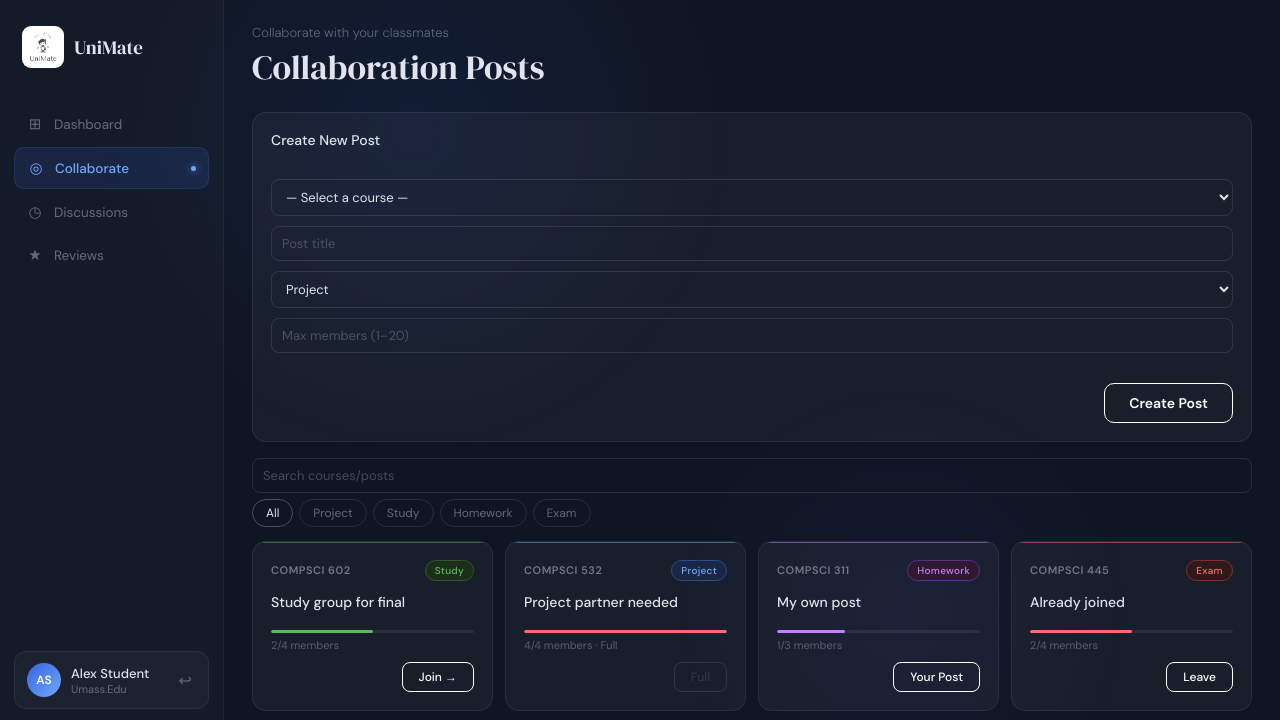
CollaboratePage › author post › closes modal when close button clicked
What coordinates should you click on to do the following:
click the button "Your Post"
I would click on:
 (937, 677)
Its box is [893,662,980,692].
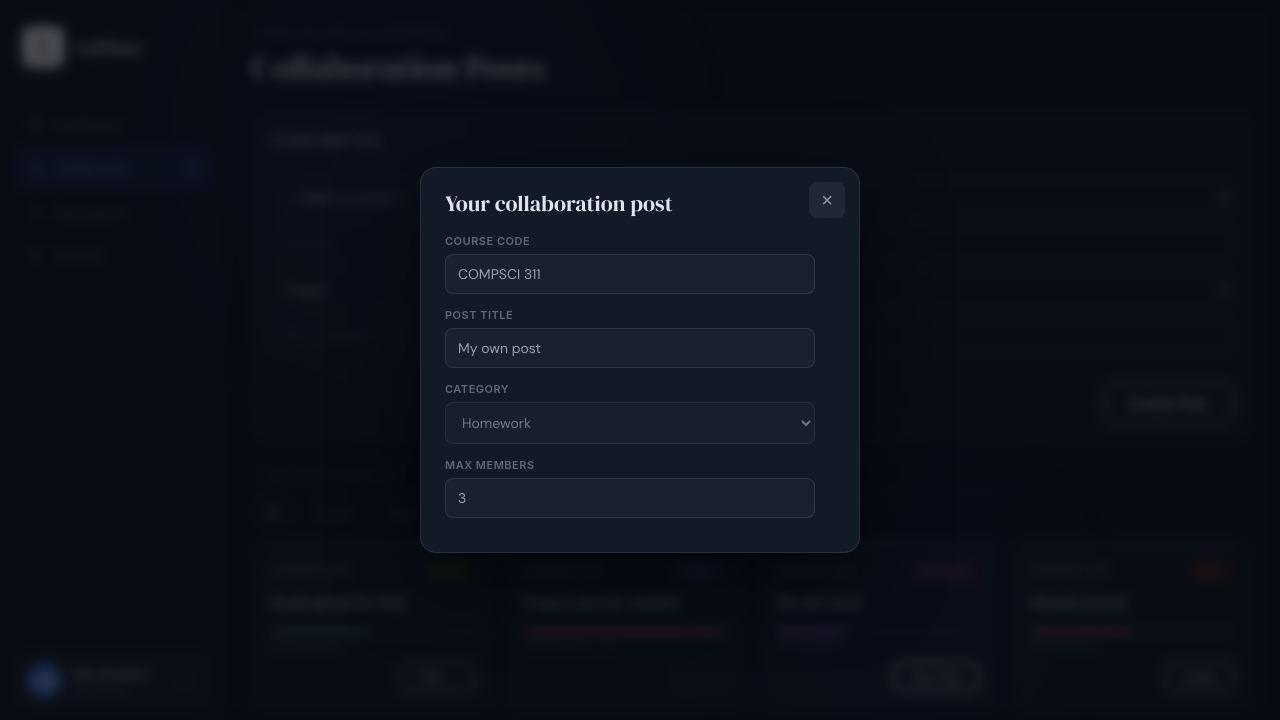
Now the heading "Your collaboration post" is shown, box [445,188,673,218]
What coordinates should you click on to do the following:
click the button named "Close"
I would click on:
 (827, 200)
Its box is [809,182,845,218].
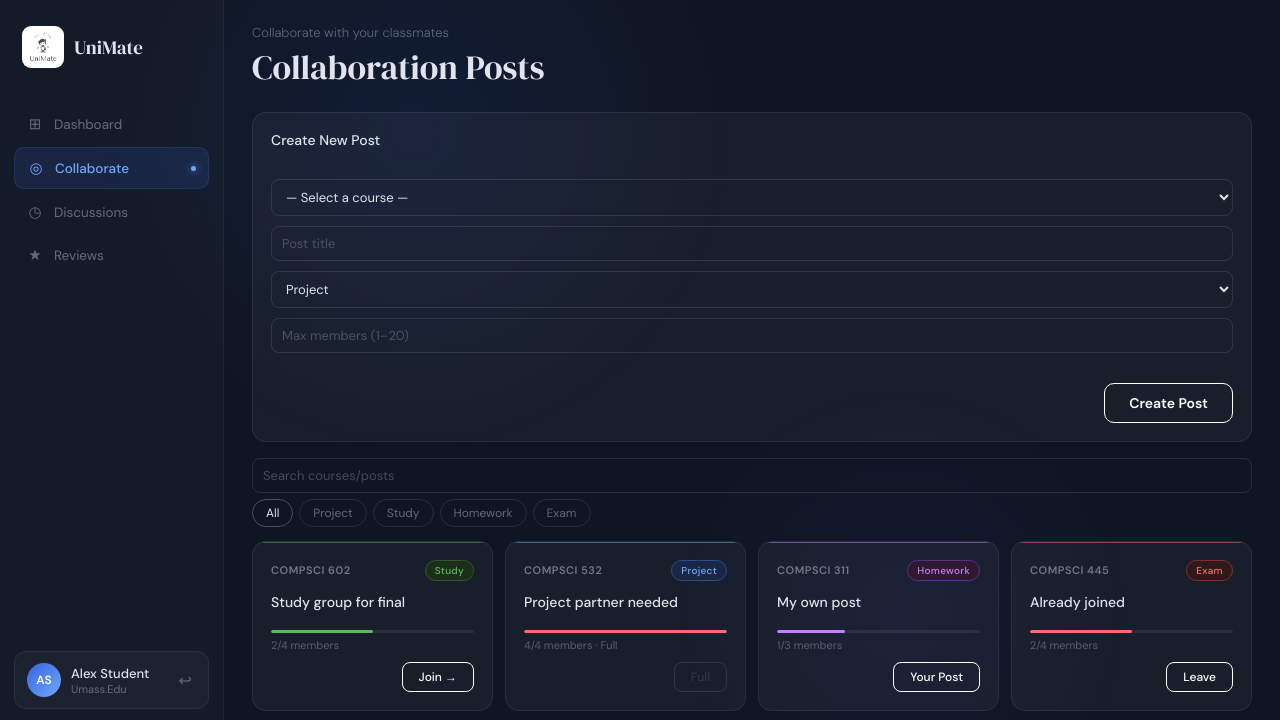
Now the heading "Your collaboration post" is gone
